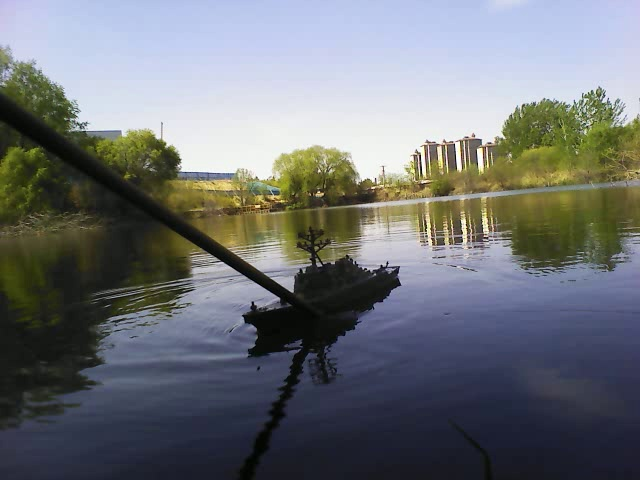warship: (238, 228, 405, 335)
